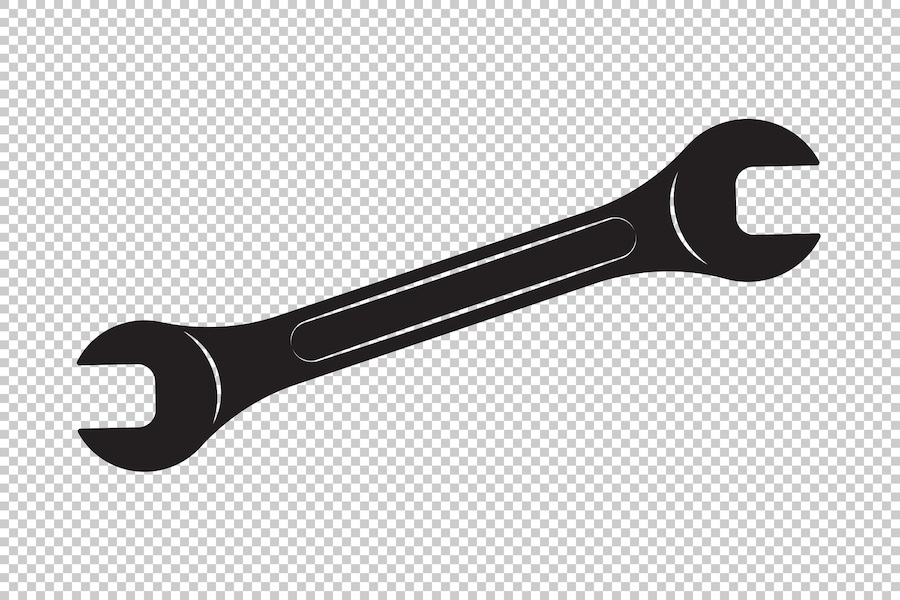Job: (61, 84, 837, 502)
